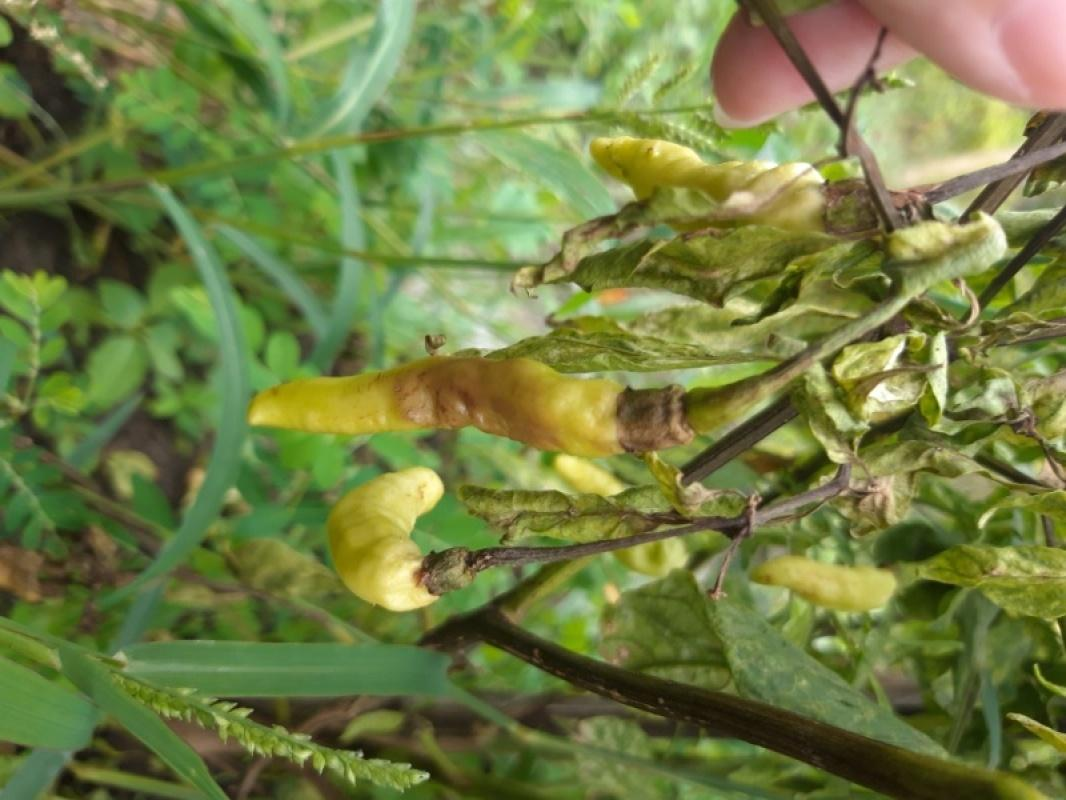antraknosa: (239, 348, 641, 459)
cabai_normal: (589, 133, 825, 236), (327, 464, 443, 612), (749, 553, 899, 613)
